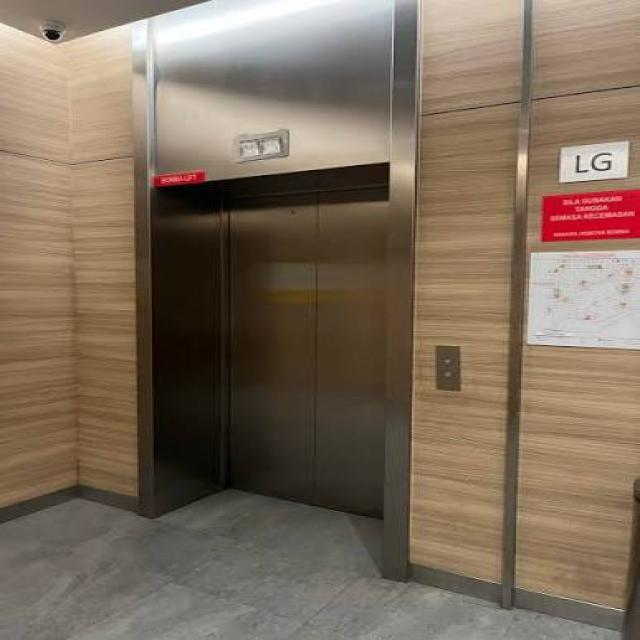elevator: (132, 119, 474, 591)
